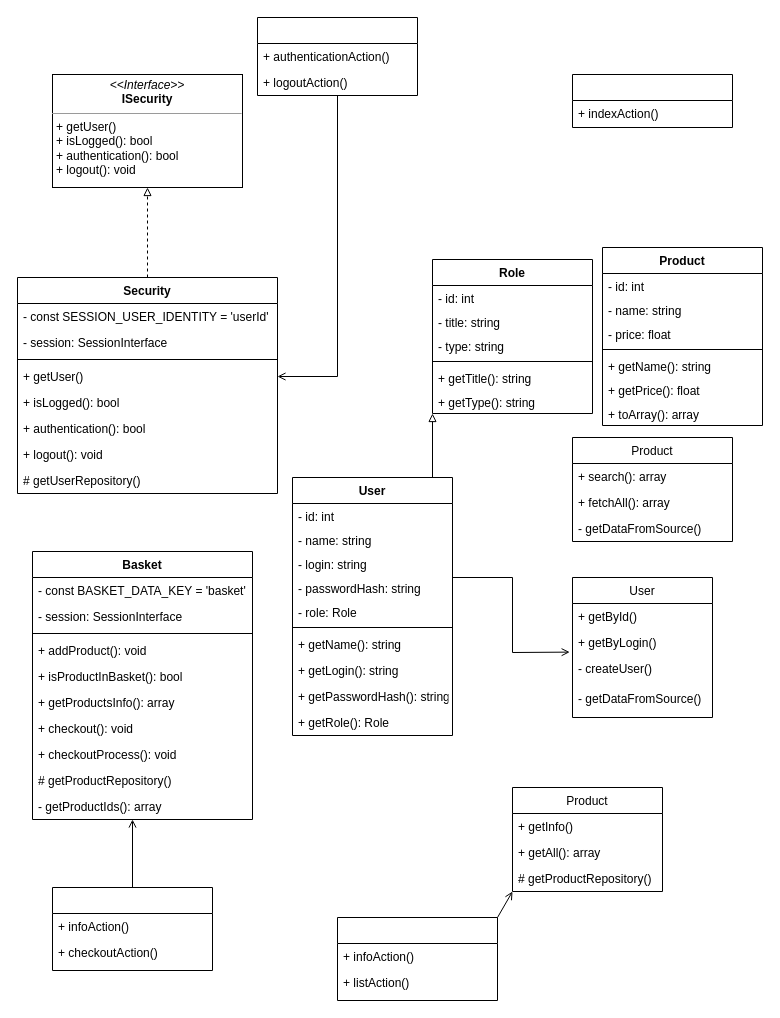
Image size: 780x1018. Some labels were removed from this diagram. The shapes that lost their labels are listed below. From the top down, each one's box as (x1, y1, x2, y2) in pixels, then its label:
(256, 16, 418, 96): UserController
(572, 74, 732, 128): MainController
(52, 886, 212, 970): OrderController
(336, 916, 498, 1000): ProductController
